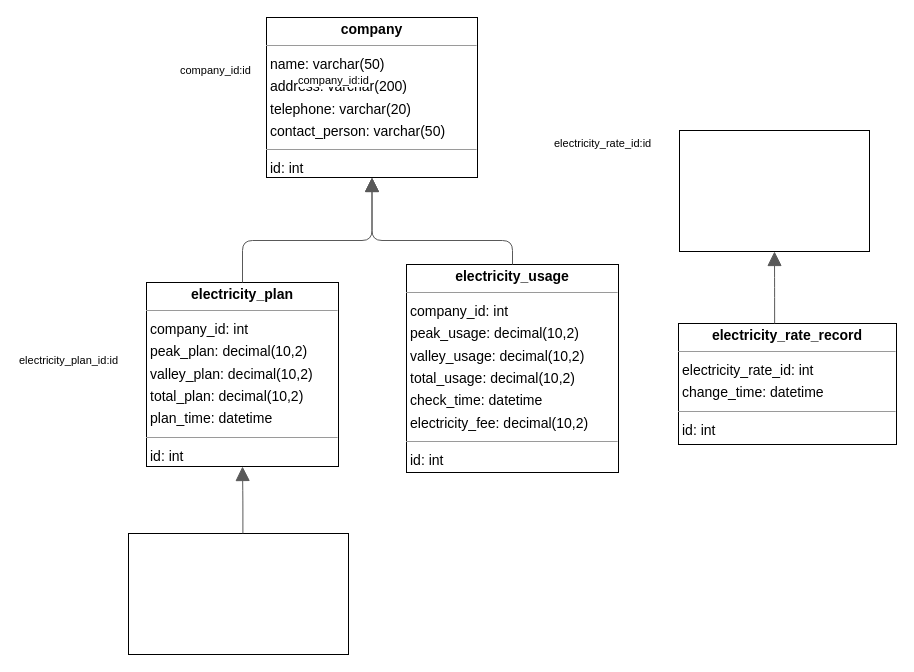
This 914x672 diagram has some shape labels left out. Each missing label, with the centre of its shape:
electricity_plan_record electricity_plan_id: int change_time: datetime id: int: (238,593)
electricity_rate peak_rate: decimal(10,2) valley_rate: decimal(10,2) id: int: (774,191)
